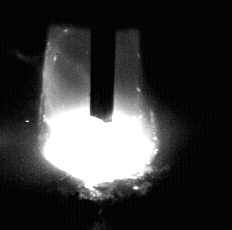arame: (91, 0, 115, 123)
poca: (38, 0, 158, 230)
